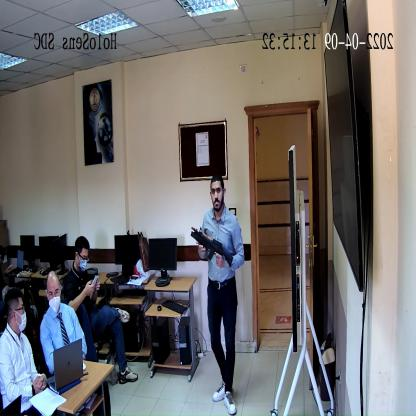handgun: (192, 227, 234, 269)
